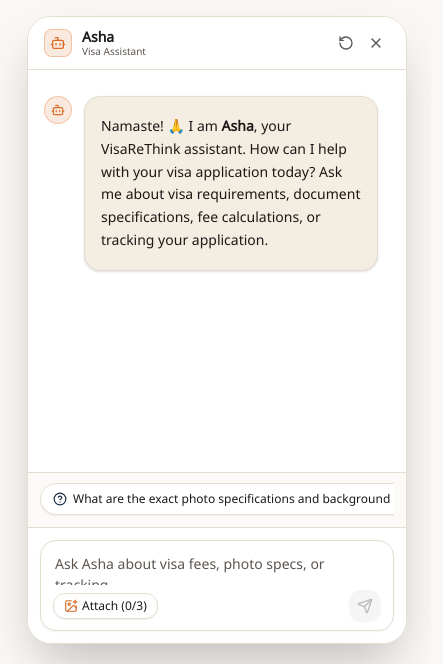
Test: AssistantSheet Component › submits a message and receives assistant response with tool card
Type "What are the photo specifications?" into the text box with placeholder "Ask Asha about visa fees, photo specs, or tracking...".
click(217, 563); type("What are the photo specifications?")  # box [41,541,393,585]
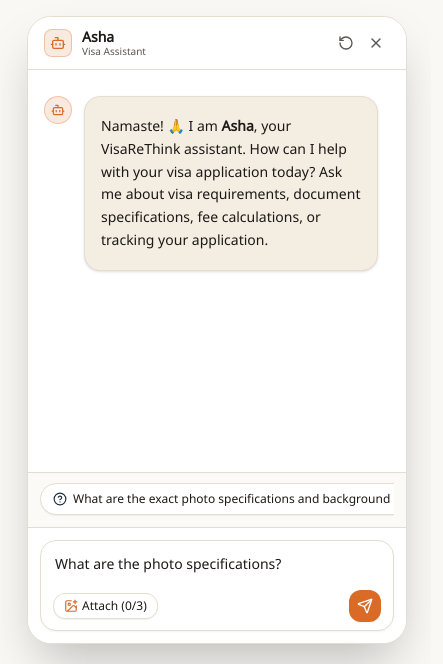
Submit the form with placeholder "Ask Asha about visa fees", box [40,540,394,631]
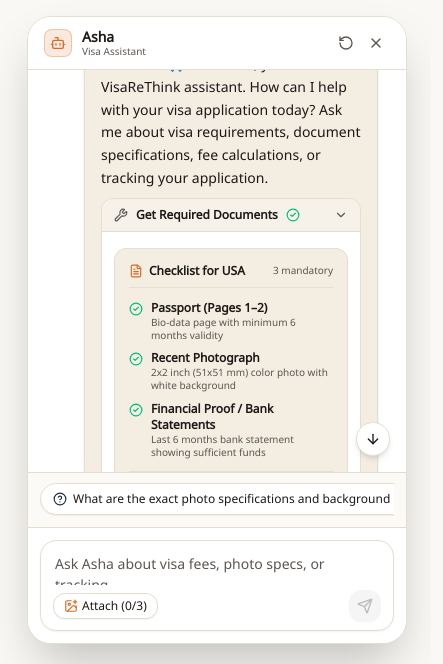
Expected: the text "Checklist for USA" is shown, [149,262,245,278]
